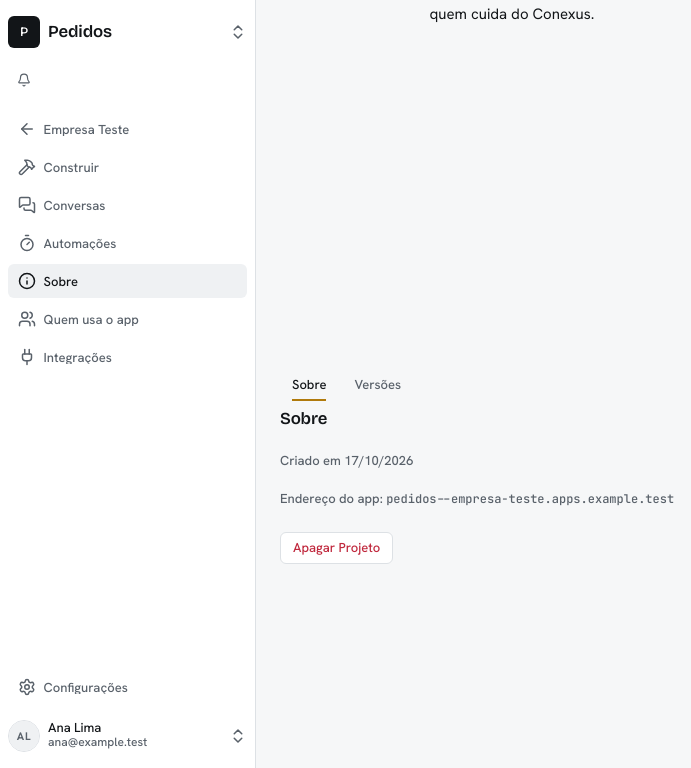
Test: o Sobre tem as duas partes e a parte fica no endereço
(page scrolled)
Click the tab "Versões". click: (378, 384)
box: [342,368,413,400]
(page scrolled)
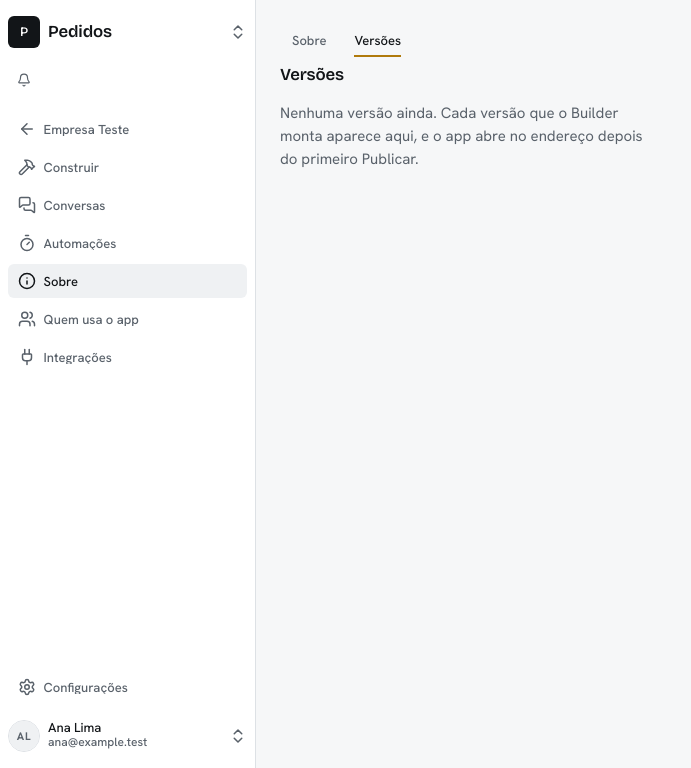
Expected: the heading "Versões" is shown, [280,64,344,85]
